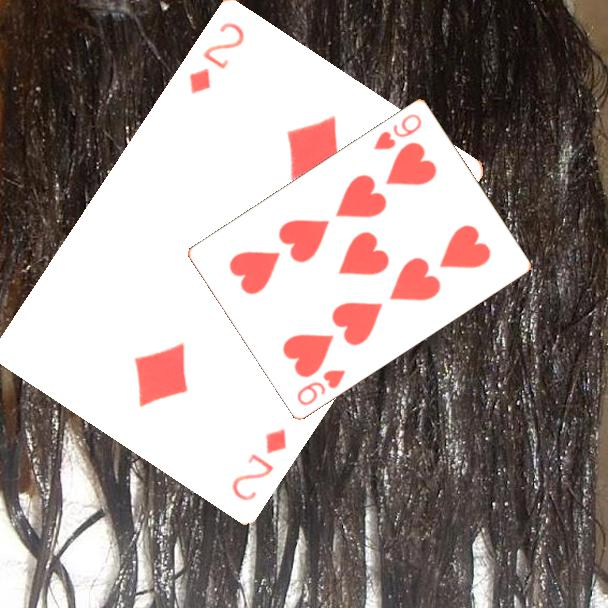d02: (185, 17, 248, 97), (228, 423, 290, 504)
h09: (370, 110, 425, 153), (293, 366, 349, 408)
